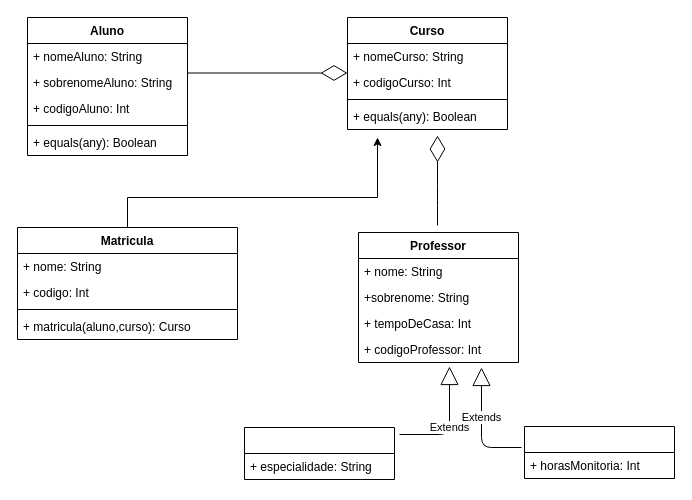
This 692x500 diagram has some shape labels left out. The box of each missing label's shape, as (x1, y1, x2, y2) in pixels:
Professor Adjunto: (524, 426, 674, 478)
Professor Titular: (244, 426, 394, 480)
